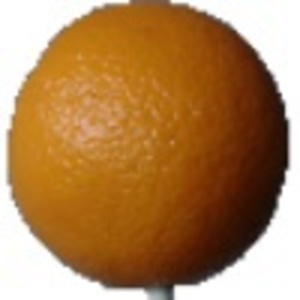laranja: (9, 1, 295, 291)
